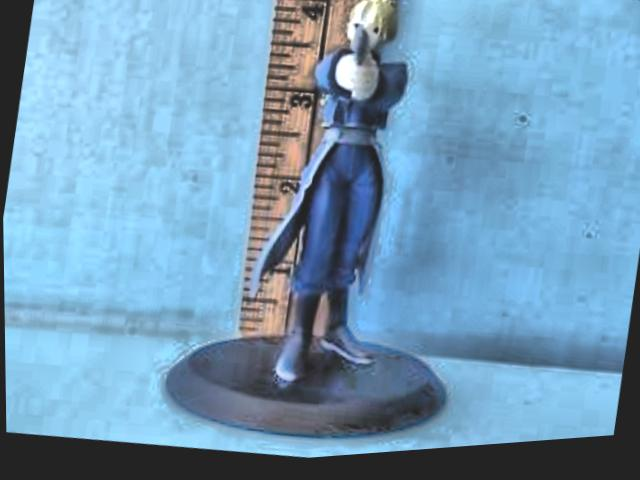pistol: (343, 27, 373, 70)
